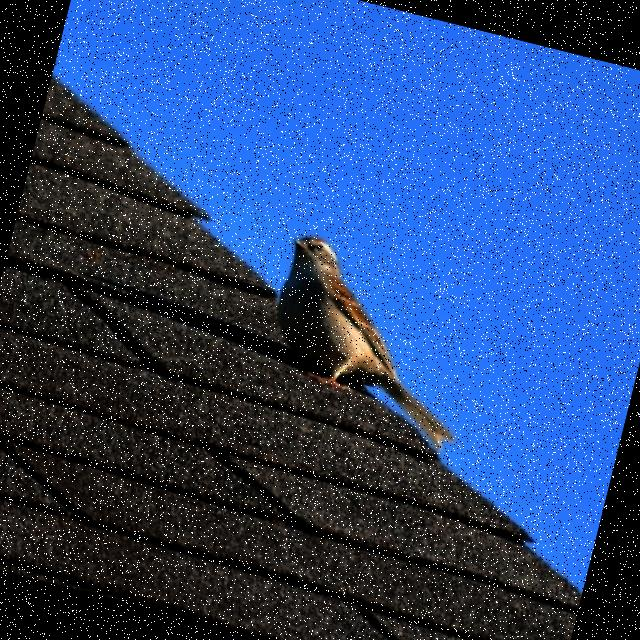bird: (250, 230, 496, 454)
